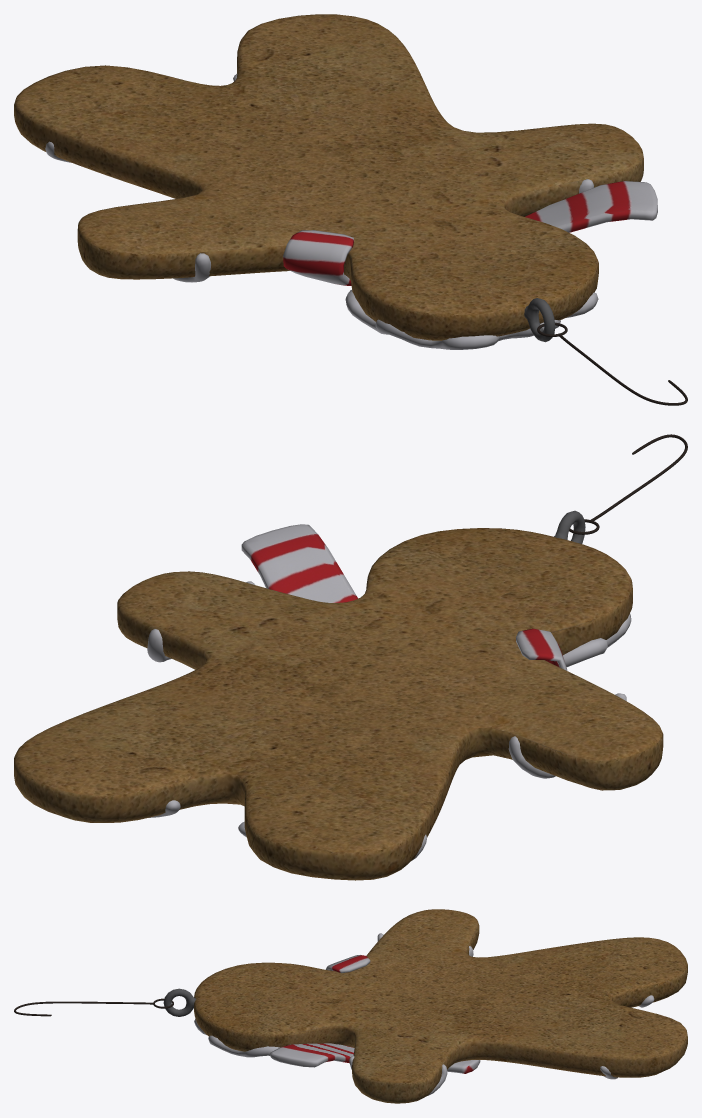
The model's file is 11571_Gingerbread_cookie_male_V2_l2.obj.
3 views of the same model, one above another, from view 1: azimuth 30°, elevation 25°; view 2: azimuth 150°, elevation 25°; view 3: azimuth 270°, elevation 25° (orthographic). The views are drawn at different scales.
Parts seen in each view (by area): view 1: Ginderbread_Male, Hook; view 2: Ginderbread_Male, Hook; view 3: Ginderbread_Male, Hook.
Part boxes in pixels (<box>): Ginderbread_Male: <box>14,14,657,349</box>; Hook: <box>537,322,687,405</box>; Ginderbread_Male: <box>14,510,663,880</box>; Hook: <box>569,434,687,534</box>; Ginderbread_Male: <box>163,909,687,1103</box>; Hook: <box>14,998,173,1016</box>.
Size of the model in its own units: 7.63 by 0.9801 by 12.52.
4 materials, 4 textured.
